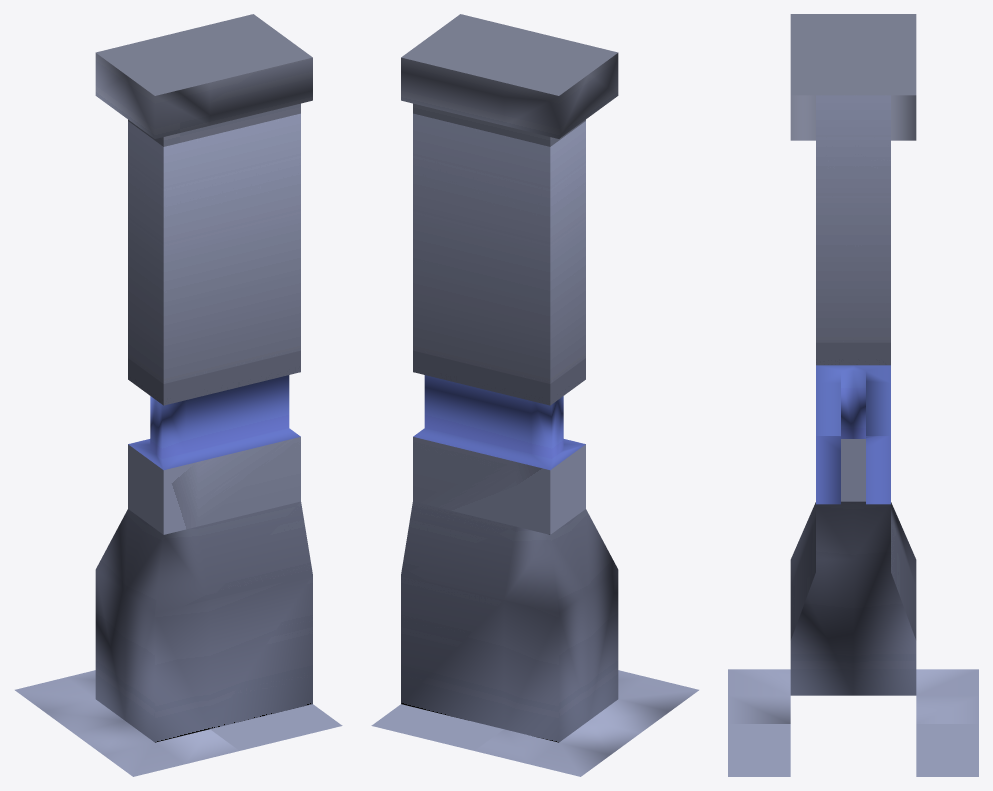
The model's file is wall-cap.glb.
3 views of the same model, side by side, from view 1: azimuth 30°, elevation 25°; view 2: azimuth 150°, elevation 25°; view 3: azimuth 270°, elevation 25° (orthographic). The views are drawn at different scales.
Parts seen in each view (by area): view 1: wall-cap; view 2: wall-cap; view 3: wall-cap.
Part boxes in pixels (bbox=[...]): wall-cap: bbox=[15, 14, 342, 776]; wall-cap: bbox=[371, 14, 698, 776]; wall-cap: bbox=[728, 14, 978, 776].
Bounding box in the file's own units: 1.02 × 3 × 1.
2 materials, 2 textured.
